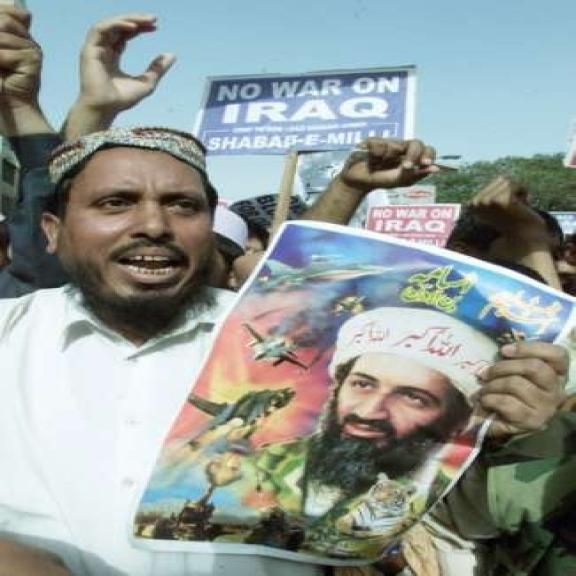face: (30, 153, 218, 307), (338, 352, 450, 454)
